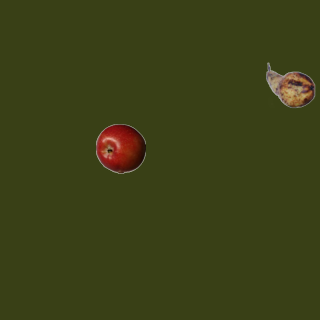Apple Braeburn: (95, 123, 145, 173)
Pear Abate: (265, 60, 315, 110)
